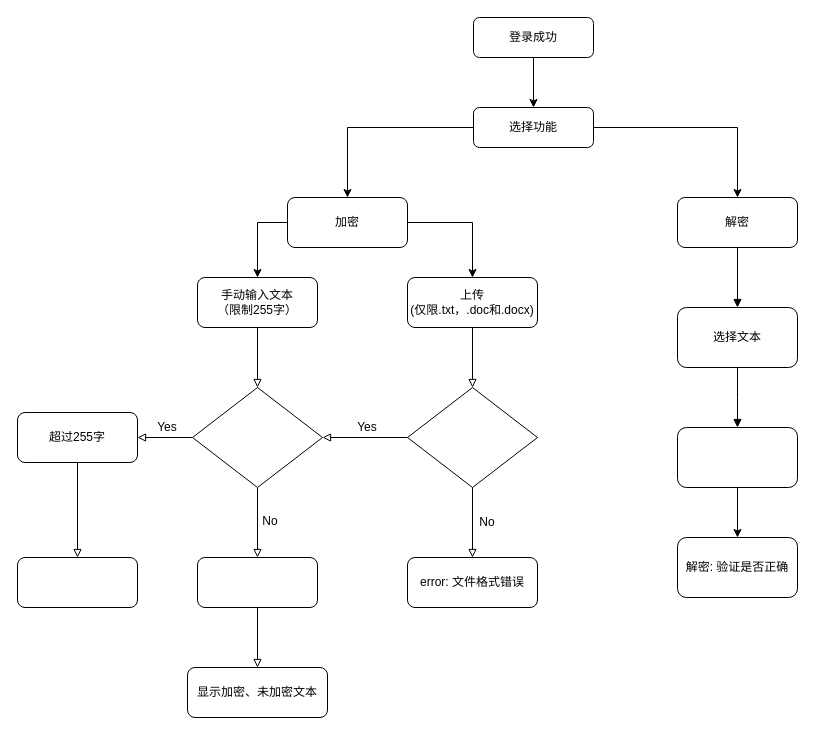
Image size: 815x735. Some labels were removed from this diagram. Each missing label, with the centre of its shape:
"与在线加密网站对比结果" belongs at [737,457].
"写入/上传成功" belongs at [257,582].
"字数超出提示" belongs at [77,582].
"文件格式是否正确?" belongs at [472,437].
"是否超过255字?" belongs at [257,437].
